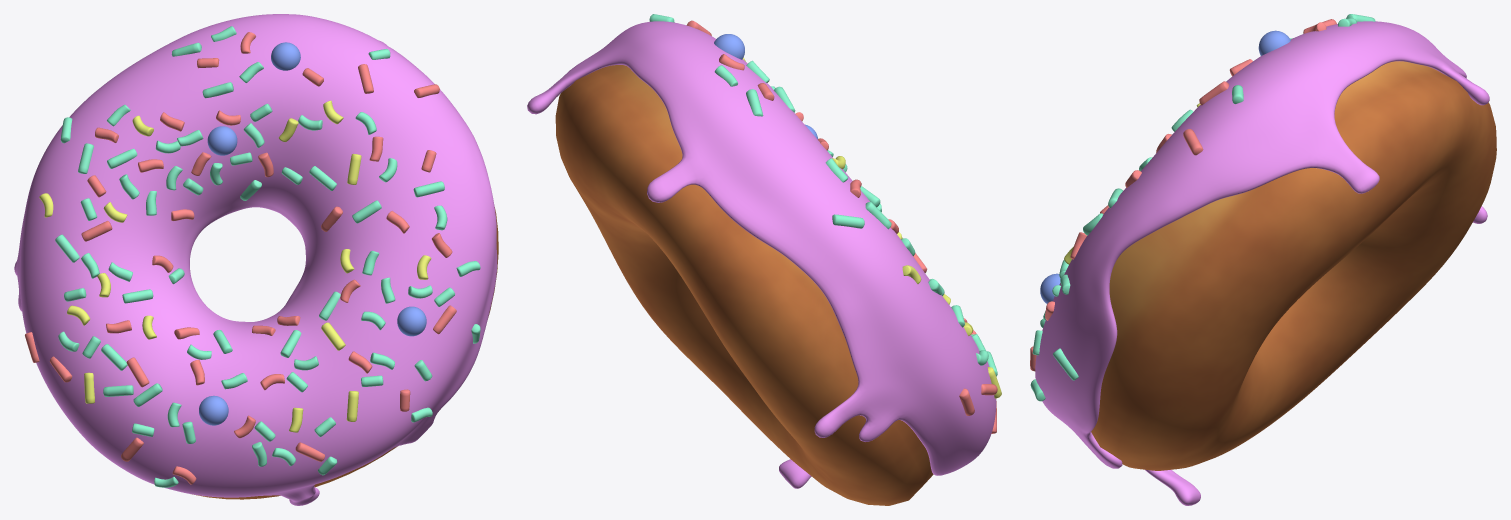
File: donut.glb
The picture shows the model from 3 angles, left to right: view 1: azimuth 30°, elevation 25°; view 2: azimuth 150°, elevation 25°; view 3: azimuth 270°, elevation 25°; orthographic projection. The views are drawn at different scales.
Parts seen in each view (by area): view 1: Donut.Icing.001, SprinkleBall.006, SprinkleBall.005, SprinkleBall.008, SprinkleBall.007, Donut.Bread.001; view 2: Donut.Icing.001, Donut.Bread.001, SprinkleBall.007; view 3: Donut.Bread.001, Donut.Icing.001, SprinkleBall.007.
Boxes of the visible parts, x1,y1,x2,y2 form: Donut.Icing.001: [14, 14, 497, 505]; SprinkleBall.006: [199, 395, 228, 425]; SprinkleBall.005: [397, 306, 426, 336]; SprinkleBall.008: [207, 126, 237, 155]; SprinkleBall.007: [271, 42, 300, 70]; Donut.Bread.001: [192, 207, 498, 499]; Donut.Icing.001: [527, 14, 1001, 488]; Donut.Bread.001: [555, 65, 933, 505]; SprinkleBall.007: [714, 34, 744, 59]; Donut.Bread.001: [1091, 61, 1496, 470]; Donut.Icing.001: [1030, 14, 1489, 505]; SprinkleBall.007: [1258, 30, 1290, 55].
Size of the model in its own units: 0.0892 by 0.0912 by 0.0791.
6 materials, 1 textured.
